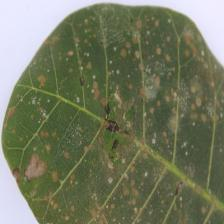red rust: (0, 2, 224, 224)
